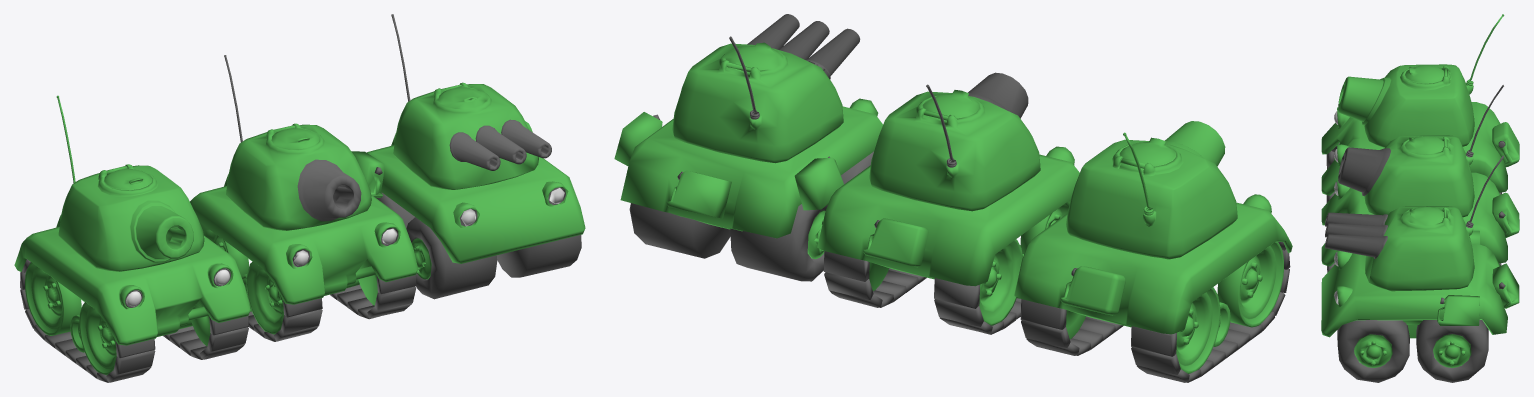
File: LowPolyTank.fbx
The picture shows the model from 3 angles, left to right: view 1: azimuth 30°, elevation 25°; view 2: azimuth 150°, elevation 25°; view 3: azimuth 270°, elevation 25°; orthographic projection. The views are drawn at different scales.
Visible parts, largest first — view 1: Tank2Chassis, TankChassis, Tank1Chassis, Tank2Turret, TankTurret, Tank1Turret, TankTracksRight, Tank1TracksRight, Tank2WheelFRight, TankTracksLeft, Tank1TracksLeft, Tank2WheelFLeft; view 2: Tank2Chassis, Tank2Turret, TankChassis, Tank1Chassis, TankTurret, Tank1Turret, TankTracksRight, Tank1TracksRight, Tank2WheelBRight, TankTracksLeft, Tank1TracksLeft, Tank2WheelBLeft; view 3: Tank2Turret, Tank2Chassis, TankTurret, Tank1Turret, TankChassis, Tank1Chassis, Tank2WheelFLeft, Tank2WheelBLeft.
Boxes of the visible parts, left/top/right/bottom form: Tank2Chassis: left=351, top=121, right=585, bottom=263; TankChassis: left=14, top=215, right=250, bottom=352; Tank1Chassis: left=190, top=174, right=417, bottom=311; Tank2Turret: left=391, top=14, right=551, bottom=189; TankTurret: left=56, top=95, right=204, bottom=271; Tank1Turret: left=224, top=55, right=371, bottom=230; TankTracksRight: left=20, top=259, right=155, bottom=382; Tank1TracksRight: left=199, top=222, right=322, bottom=341; Tank2WheelFRight: left=406, top=217, right=497, bottom=299; TankTracksLeft: left=163, top=300, right=248, bottom=359; Tank1TracksLeft: left=330, top=259, right=416, bottom=319; Tank2WheelFLeft: left=496, top=235, right=581, bottom=277; Tank2Chassis: left=614, top=98, right=882, bottom=238; Tank2Turret: left=672, top=14, right=860, bottom=163; TankChassis: left=1014, top=194, right=1292, bottom=346; Tank1Chassis: left=817, top=146, right=1079, bottom=298; TankTurret: left=1066, top=121, right=1237, bottom=259; Tank1Turret: left=869, top=72, right=1040, bottom=211; TankTracksRight: left=1131, top=242, right=1290, bottom=382; Tank1TracksRight: left=934, top=199, right=1070, bottom=334; Tank2WheelBRight: left=730, top=204, right=827, bottom=281; TankTracksLeft: left=1020, top=299, right=1123, bottom=355; Tank1TracksLeft: left=823, top=251, right=926, bottom=307; Tank2WheelBLeft: left=629, top=203, right=730, bottom=258; Tank2Turret: left=1325, top=155, right=1503, bottom=291; Tank2Chassis: left=1321, top=230, right=1519, bottom=338; TankTurret: left=1338, top=14, right=1504, bottom=147; Tank1Turret: left=1338, top=85, right=1503, bottom=217; TankChassis: left=1321, top=102, right=1519, bottom=195; Tank1Chassis: left=1321, top=172, right=1519, bottom=266; Tank2WheelFLeft: left=1337, top=320, right=1409, bottom=382; Tank2WheelBLeft: left=1416, top=320, right=1488, bottom=382.
Bounding box in the file's own units: 590 × 249 × 237.
